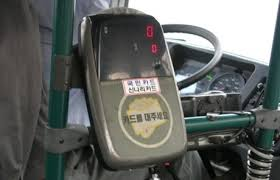terminal: (75, 4, 195, 173)
